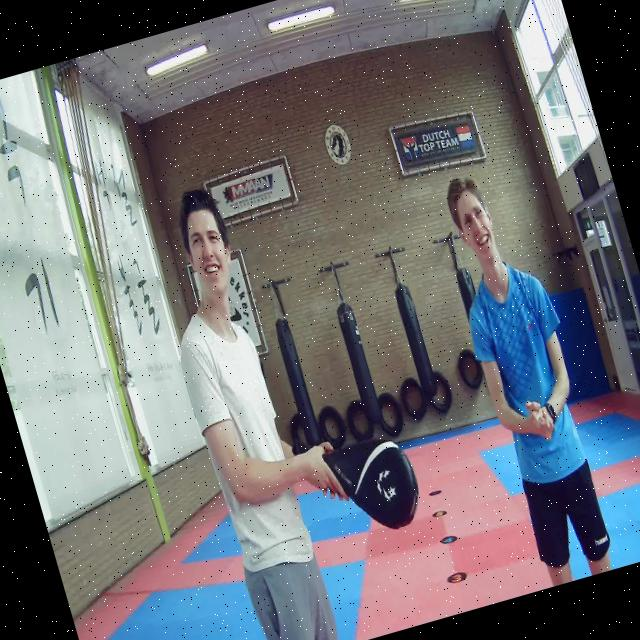paddle: (320, 438, 417, 531)
